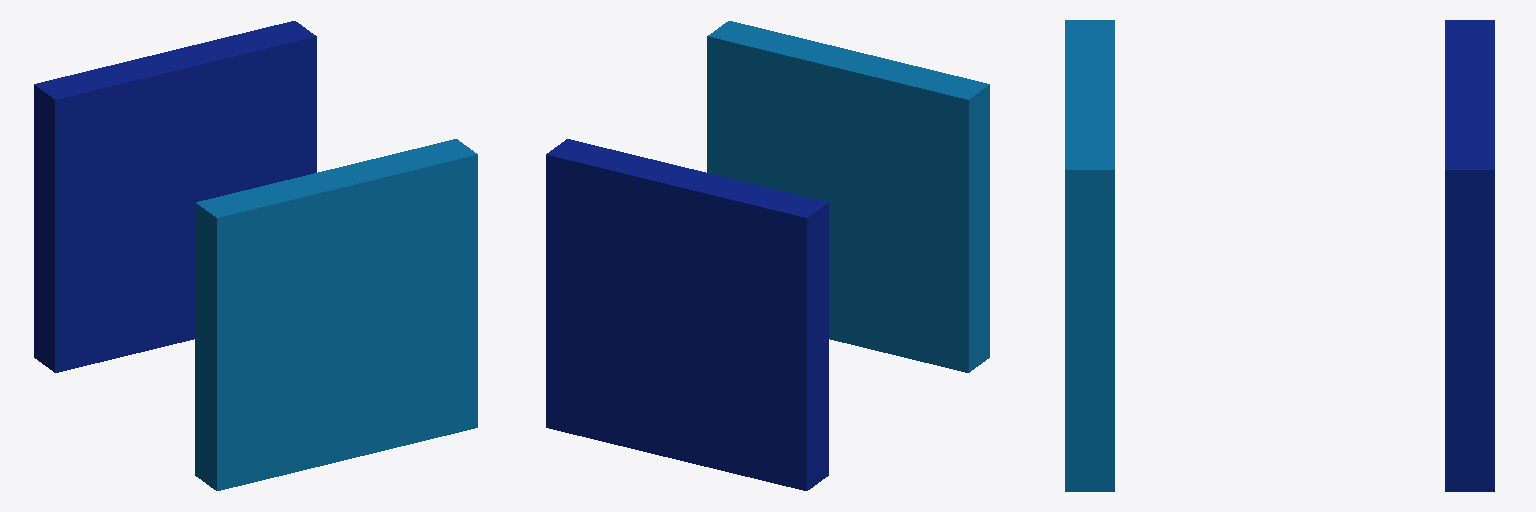
robot.urdf — PumaGripper:
<?xml version="1.0" ?>

<robot name="PumaGripper">

	<link name="ground">
		<inertial>
			<origin xyz="0.0 0.0 0.0" rpy="0 0 0" />
			<mass value="0.001" />
			<inertia ixx="0.01" iyy="0.01" izz="0.01" ixy="0" ixz="0" iyz="0" />
		</inertial>
		<visual>
			<origin xyz="0.0 0.0 0.0" rpy="0 0 0" />
			<geometry>
				<mesh filename="../../../../examples/models/puma560/meshes/base_bl.obj" scale="1 1 1" />
			</geometry>
		</visual>
	</link>

	<link name="base">
		<inertial>
			<origin xyz="0.0 0.0 0.0" rpy="0 0 0" />
			<mass value="34.4" />
			<inertia ixx="0.18" iyy="0.18" izz="0.35" ixy="0" ixz="0" iyz="0" />
		</inertial>
		<visual>
			<origin xyz="0.0 0.0 0.0" rpy="0 0 0" />
			<geometry>
				<mesh filename="../../../../examples/models/puma560/meshes/shoulder_bl.obj" scale="1 1 1" />
			</geometry>
		</visual>
	</link>

	<link name="upper_arm">
		<inertial>
			<origin xyz="0.068 0.006 -0.016" rpy="0 0 0" />
			<mass value="17.4" />
			<inertia ixx="0.130" iyy="0.524" izz="0.539" ixy="0" ixz="0" iyz="0" />
		</inertial>
		<visual>
			<origin xyz="0.0 0.0 0.0" rpy="0 0 0" />
			<geometry>
				<mesh filename="../../../../examples/models/puma560/meshes/upper_arm_bl.obj" scale="1 1 1" />
			</geometry>
		</visual>
	</link>

	<link name="lower_arm">
		<inertial>
			<origin xyz="0.0 -0.143 0.014" rpy="0 0 0" />
			<mass value="6.04" />
			<inertia ixx="0.066" iyy="0.0125" izz="0.086" ixy="0" ixz="0" iyz="0" />
		</inertial>
		<visual>
			<origin xyz="-0.02 0.0 -0.005" rpy="0 0 0" />
			<geometry>
				<mesh filename="../../../../examples/models/puma560/meshes/lower_arm_bl.obj" scale="1 1 1" />
			</geometry>
		</visual>
	</link>

	<link name="wrist-hand">
		<inertial>
			<origin xyz="0.0 0.0 -0.019" rpy="0 0 0" />
			<mass value="0.82" />
			<inertia ixx="0.0018" iyy="0.0018" izz="0.0013" ixy="0" ixz="0" iyz="0" />
		</inertial>
		<visual>
			<origin xyz="0.0 0.0 0.0" rpy="0 0 0" />
			<geometry>
				<mesh filename="../../../../examples/models/puma560/meshes/hand_bl.obj" scale="1 1 1" />
			</geometry>
		</visual>
	</link>

	<link name="wrist-finger">
		<inertial>
			<origin xyz="0.0 0.0 0.0" rpy="0 0 0" />
			<mass value="0.34" />
			<inertia ixx="0.0003" iyy="0.0003" izz="0.0004" ixy="0" ixz="0" iyz="0" />
		</inertial>
		<visual>
			<origin xyz="0.0 0.0 0.0" rpy="0 0 0" />
			<geometry>
				<mesh filename="../../../../examples/models/puma560/meshes/finger_bl.obj" scale="1 1 1" />
			</geometry>
		</visual>
		<collision>
			<origin xyz="0.0 0.0 0.0" rpy="0 0 0" />
			<geometry>
				<mesh filename="../../../../examples/models/puma560/meshes/finger_bl.obj" scale="1 1 1" />
			</geometry>
		</collision>
	</link>

	<link name="end-effector">
		<inertial>
			<origin xyz="0.0 0.0 0.032" rpy="0 0 0" />
			<mass value="0.09" />
			<inertia ixx="0.000150" iyy="0.000150" izz="0.000040" ixy="0" ixz="0" iyz="0" />
		</inertial>
		<visual>
			<origin xyz="-0.025 0.0 0.025" rpy="0 0 0" />
			<geometry>
                <box size="0.07 0.07 0.01" />
            </geometry>
            <material name="link5-1">
                <color rgba="0.1 0.2 0.6 1.0" />
            </material>
		</visual>
		<collision>
			<origin xyz="-0.025 0.0 0.025" rpy="0 0 0" />
			<geometry>
                <box size="0.07 0.07 0.01" />
            </geometry>
		</collision>
	</link>

	<link name="gripper-finger">
		<inertial>
			<origin xyz="0.0 0.0 0.0" rpy="0 0 0" />
			<mass value="0.04" />
			<inertia ixx="0.0000150" iyy="0.0000150" izz="0.0000040" ixy="0" ixz="0" iyz="0" />
		</inertial>
		<visual>
			<origin xyz="-0.025 0.0 -0.05" rpy="0 0 0" />
			<geometry>
                <box size="0.07 0.07 0.01" />
            </geometry>
            <material name="link5-2">
                <color rgba="0.1 0.5 0.7 1.0" />
            </material>
		</visual>
		<collision>
			<origin xyz="-0.025 0.0 -0.05" rpy="0 0 0" />
			<geometry>
                <box size="0.07 0.07 0.01" />
            </geometry>
		</collision>
	</link>

	<joint name="shoulder-yaw" type="revolute">
		<parent link="ground" />
		<child link="base" />
		<origin xyz="0.0 0.0 0.66" rpy="0.0 0.0 0.0" />
		<axis xyz="0 0 1" />
		<limit lower="-3.14159" upper="3.14159" effort="97.6" velocity="1.0" />
	</joint>

	<joint name="shoulder-pitch" type="revolute">
		<parent link="base" />
		<child link="upper_arm" />
		<origin xyz="0.0 0.2435 0.0" rpy="-1.5707963268 0.0 0.0" />
		<axis xyz="0 0 1" />
		<limit lower="-3.14159" upper="3.14159" effort="186.4" velocity="1.0" />
	</joint>

	<joint name="elbow" type="revolute">
		<parent link="upper_arm" />
		<child link="lower_arm" />
		<origin xyz="0.4318 0.0 -0.0934" rpy="0.0 0.0 0.0" />
		<axis xyz="0 0 1" />
		<limit lower="-3.14159" upper="3.14159" effort="89.4" velocity="1.0" />
	</joint>

	<joint name="wrist-roll1" type="revolute">
		<parent link="lower_arm" />
		<child link="wrist-hand" />
		<origin xyz="-0.0203 -0.4331 0.0" rpy="1.5707963268 0.0 0.0" />
		<axis xyz="0 0 1" />
		<limit lower="-3.14159" upper="3.14159" effort="24.2" velocity="1.0" />
	</joint>

	<joint name="wrist-pitch" type="revolute">
		<parent link="wrist-hand" />
		<child link="wrist-finger" />
		<origin xyz="0.0 0.0 0.0" rpy="0 1.5707963268 -3.1415926536" />
		<axis xyz="0 0 1" />
		<limit lower="-3.14159" upper="3.14159" effort="20.1" velocity="1.0" />
	</joint>

	<joint name="wrist-roll2" type="revolute">
		<parent link="wrist-finger" />
		<child link="end-effector" />
		<origin xyz="-0.07 0.0 0.0" rpy="1.5707 0.0 0.0" />
		<axis xyz="1 0 0" />
		<limit lower="-3.14159" upper="3.14159" effort="21.3" velocity="1.0" />
	</joint>

	<joint name="gripper" type="prismatic">
		<parent link="end-effector" />
		<child link="gripper-finger" />
		<origin xyz="0.00 0.0 -0.00" rpy="0.0 0.0 0.0" />
		<axis xyz="0 0 1" />
		<limit lower="-0.06" upper="0.0" effort="21.3" velocity="1.0" />
	</joint>

</robot>

--- Facts derived from the render (not from the file) ---
Views: 3 orthographic renders of the robot side by side, from view 1: azimuth 30°, elevation 25°; view 2: azimuth 150°, elevation 25°; view 3: azimuth 270°, elevation 25°.
Robot: PumaGripper — 8 links, 7 joints (6 revolute, 1 prismatic); root link ground; default pose: every joint at zero.
Links seen in each view (by area): view 1: gripper-finger, end-effector; view 2: end-effector, gripper-finger; view 3: end-effector, gripper-finger.
Boxes of the visible links, x1=… form: gripper-finger: x1=195, y1=139, x2=477, y2=490; end-effector: x1=34, y1=21, x2=316, y2=372; end-effector: x1=546, y1=139, x2=828, y2=490; gripper-finger: x1=707, y1=21, x2=989, y2=372; end-effector: x1=1445, y1=20, x2=1494, y2=491; gripper-finger: x1=1065, y1=20, x2=1114, y2=491.
Size in the robot's own frame: 0.07 by 0.085 by 0.07 metres.
Geometry: only primitive shapes (box / cylinder / sphere) drawn; not drawn: 6 mesh visuals (reference in a form the renderer does not follow).